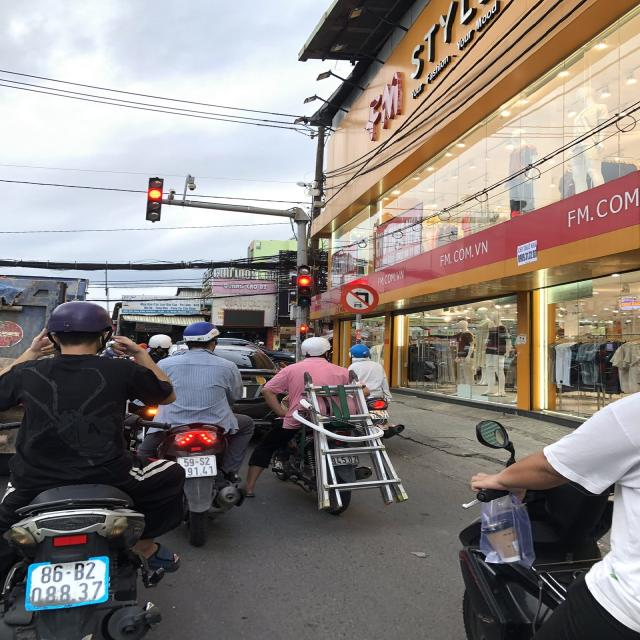Bien bao cam xe o to re trai: (340, 278, 384, 318)
